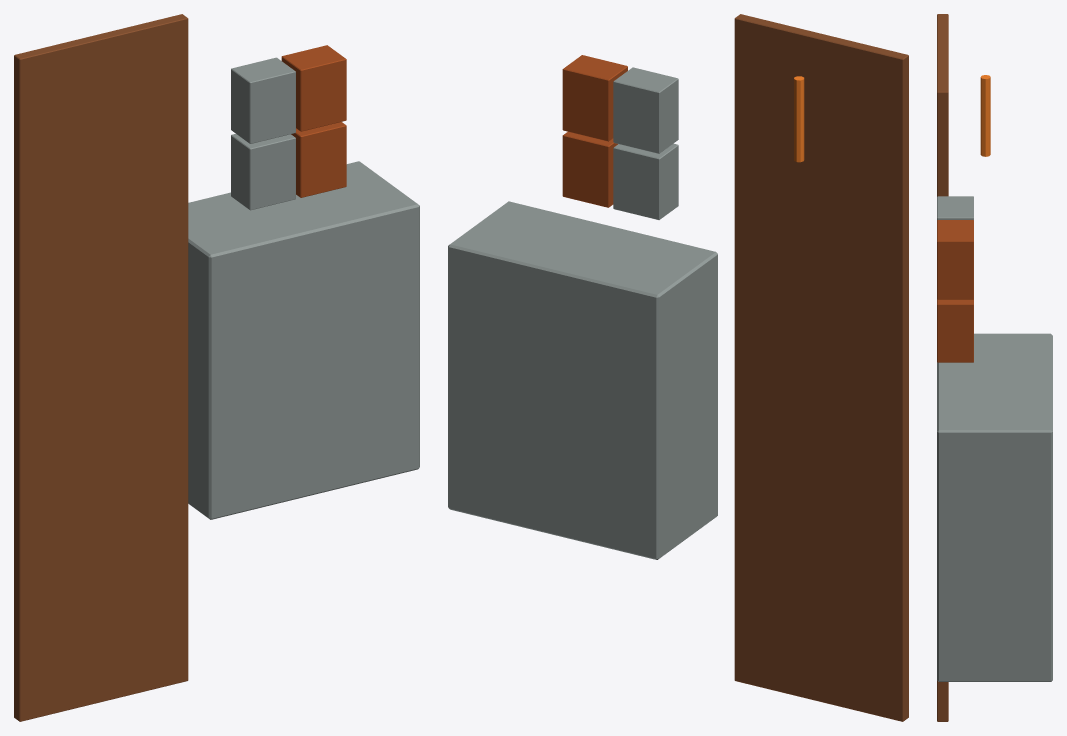
File: coastal_port.glb
3 views of the same model, side by side, from view 1: azimuth 30°, elevation 25°; view 2: azimuth 150°, elevation 25°; view 3: azimuth 270°, elevation 25° (orthographic). The views are drawn at different scales.
Parts seen in each view (by area): view 1: pier, warehouse, cargo_container.002, cargo_container, cargo_container.003, cargo_container.001; view 2: pier, warehouse, cargo_container.002, cargo_container, cargo_container.003, cargo_container.001, beacon; view 3: warehouse, cargo_container.003, pier, cargo_container.001, beacon, cargo_container.002.
Boxes of the visible parts, x1,y1,x2,y2 form: pier: [14, 14, 188, 721]; warehouse: [188, 161, 419, 519]; cargo_container.002: [231, 57, 295, 143]; cargo_container: [231, 134, 295, 210]; cargo_container.003: [281, 45, 346, 131]; cargo_container.001: [291, 122, 346, 197]; pier: [734, 14, 908, 721]; warehouse: [448, 201, 717, 559]; cargo_container.002: [613, 67, 678, 153]; cargo_container: [613, 143, 678, 219]; cargo_container.003: [562, 55, 627, 141]; cargo_container.001: [562, 131, 617, 207]; beacon: [794, 76, 804, 162]; warehouse: [937, 333, 1052, 681]; cargo_container.003: [937, 220, 973, 299]; pier: [937, 14, 948, 721]; cargo_container.001: [937, 299, 973, 362]; beacon: [980, 75, 990, 156]; cargo_container.002: [937, 196, 973, 219].
Size of the model in its own units: 19 by 30 by 5.
